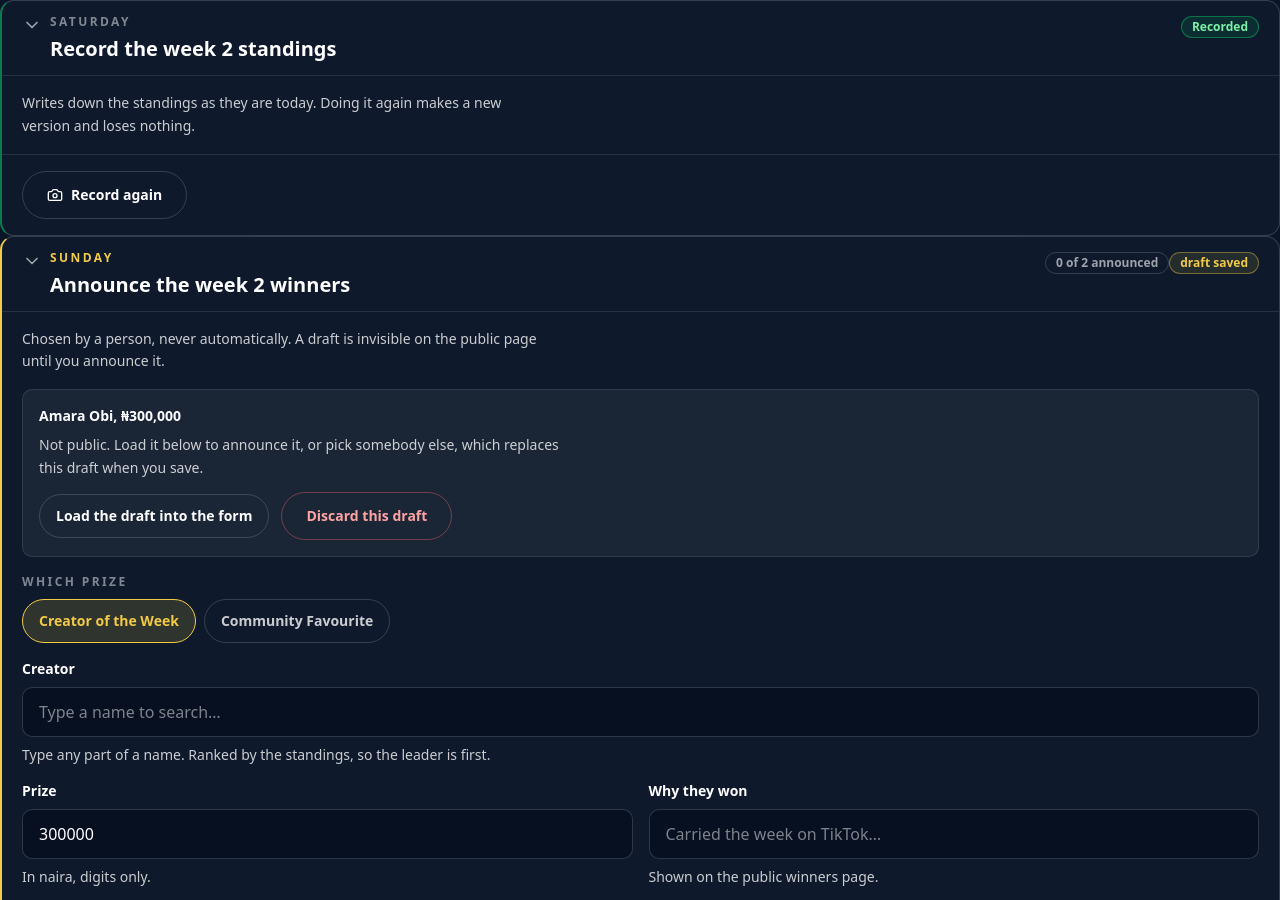
Test: saving a draft › says it updates, not replaces, a draft for the same creator
This screenshot has width=1280, height=900.
Click the button "Load the draft into the form" at (154, 516), box [39, 494, 270, 538]
(page scrolled)
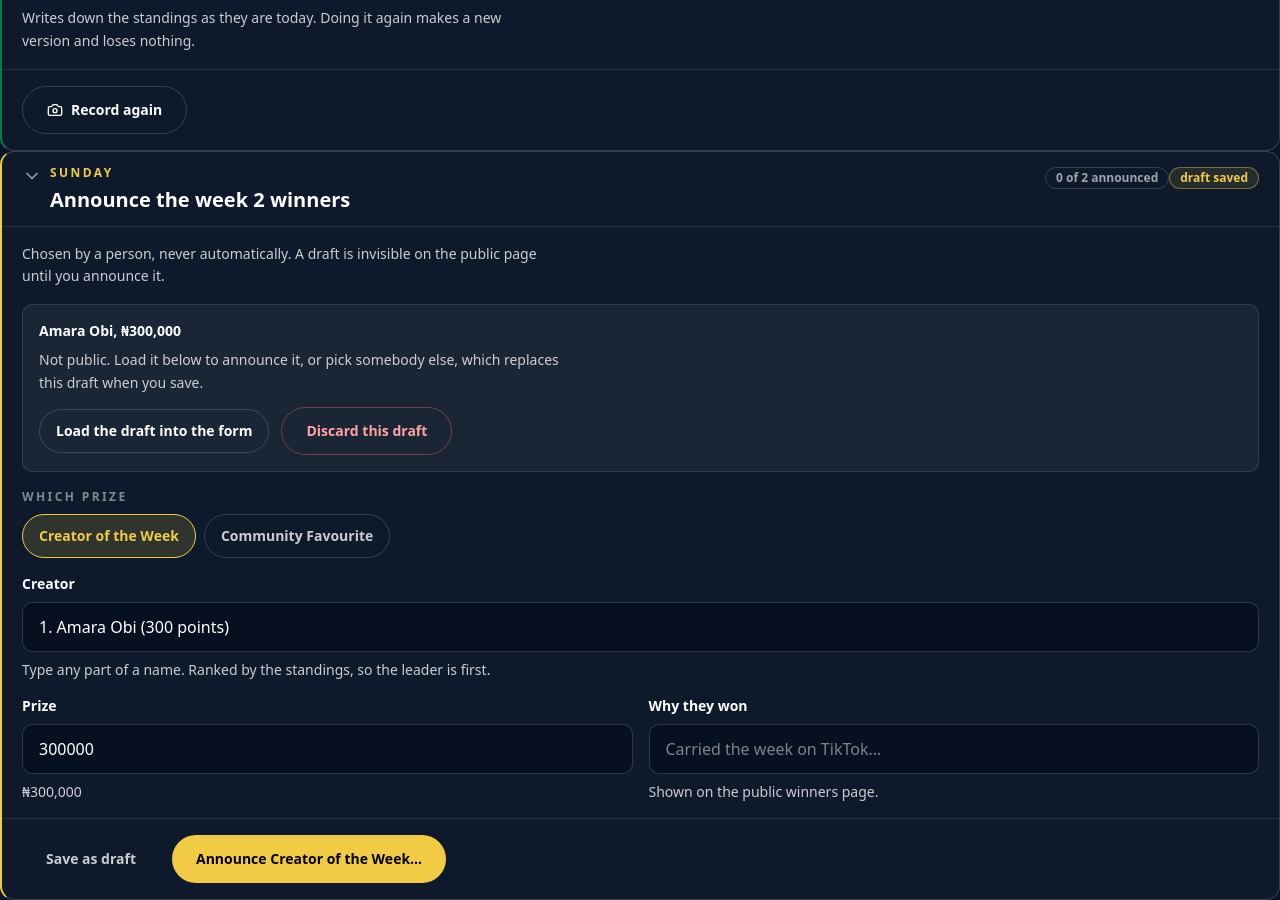
Click the button "Save as draft" at (91, 858), box [22, 834, 160, 882]
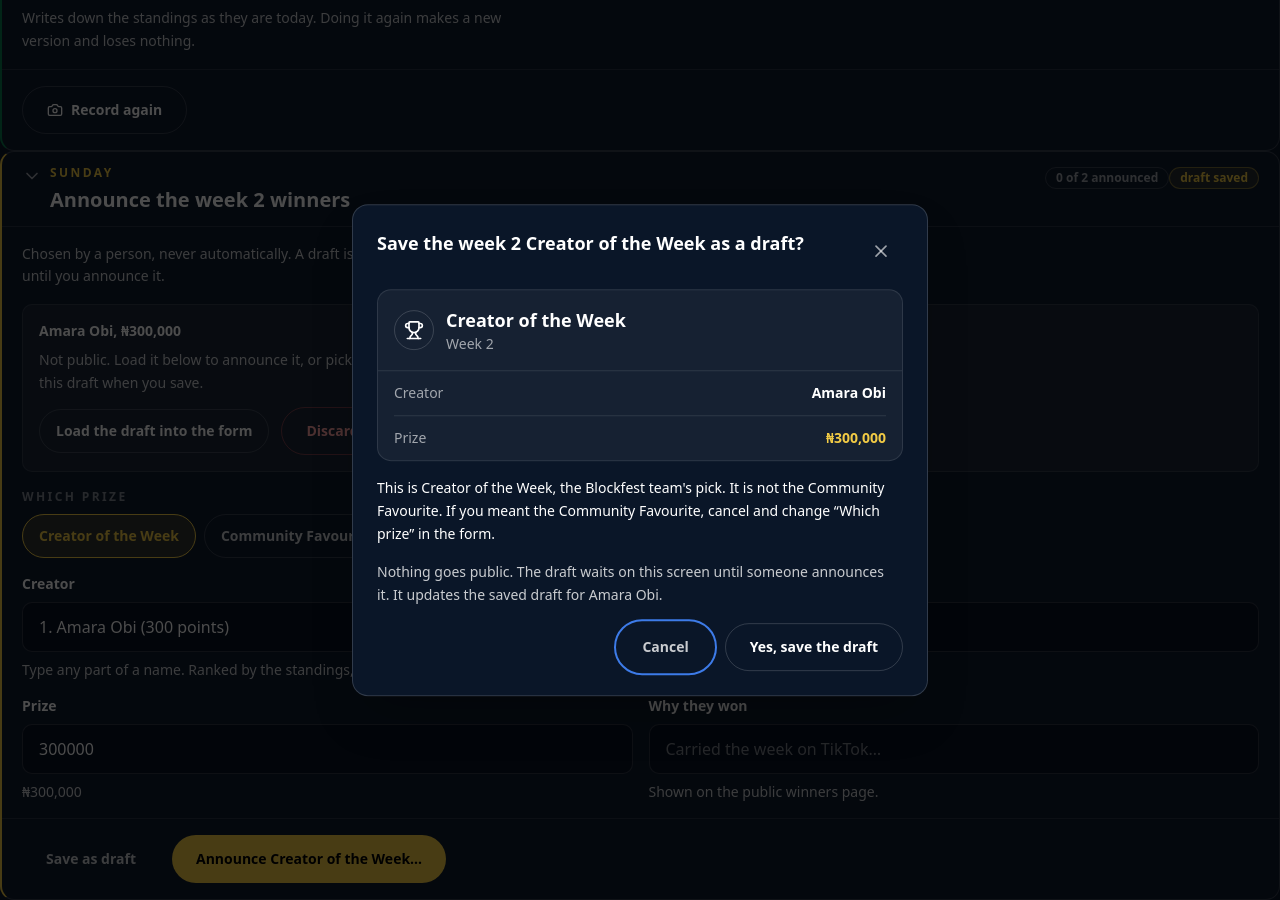
Check: the text "It updates the saved draft for Amara Obi." is shown, box [377, 562, 884, 604]
